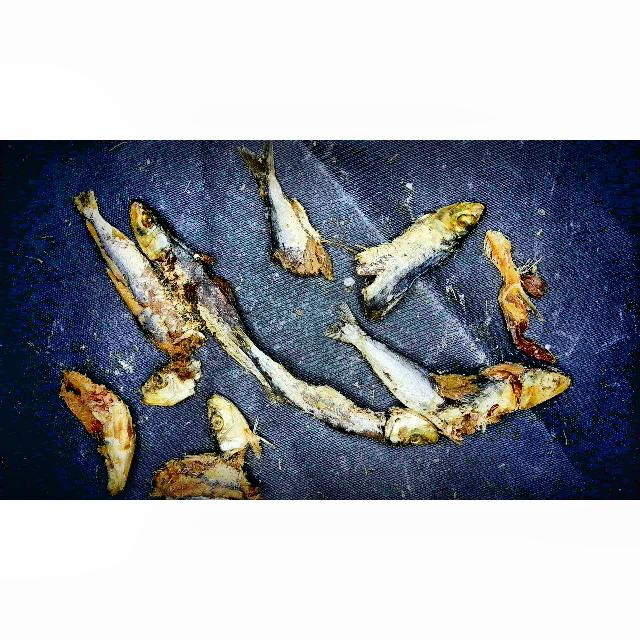Rejected_Body: (91, 224, 201, 362), (361, 337, 473, 427), (153, 241, 241, 343), (266, 359, 376, 440), (250, 191, 340, 281), (144, 451, 259, 500)
Rejected_Head: (351, 193, 484, 314), (52, 370, 135, 492), (478, 359, 579, 417), (123, 194, 190, 269), (134, 353, 206, 410), (205, 387, 265, 455), (373, 408, 438, 452)
Rejected_Tail: (232, 143, 278, 193), (321, 300, 366, 350), (66, 181, 109, 230)
